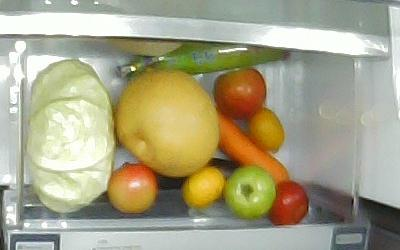cabbage: (27, 59, 115, 211)
carrot: (218, 107, 294, 187)
pear: (115, 69, 220, 177)
prune: (213, 68, 267, 119), (109, 162, 158, 214)
tangerine: (182, 166, 225, 211), (247, 109, 286, 155)
tomato: (226, 163, 279, 219), (266, 178, 309, 222)
zucchini: (116, 44, 293, 81)
